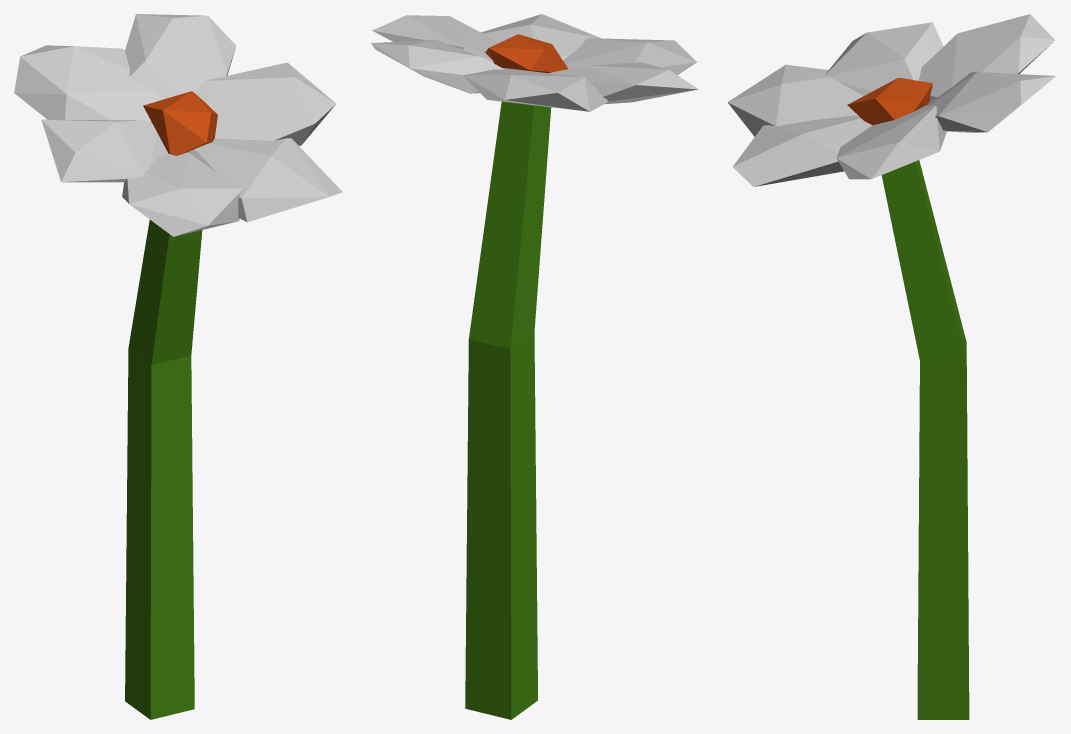
Rendered from flower7.obj.
3 views of the same model, side by side, from view 1: azimuth 30°, elevation 25°; view 2: azimuth 150°, elevation 25°; view 3: azimuth 270°, elevation 25° (orthographic). The views are drawn at different scales.
Parts seen in each view (by area): view 1: Flower3_1_Cube.007; view 2: Flower3_1_Cube.007; view 3: Flower3_1_Cube.007.
Boxes of the visible parts, x1,y1,x2,y2 form: Flower3_1_Cube.007: (14,14,342,719); Flower3_1_Cube.007: (371,14,698,719); Flower3_1_Cube.007: (727,14,1055,719).
Size of the model in its own units: 0.2735 by 0.5934 by 0.2709.
